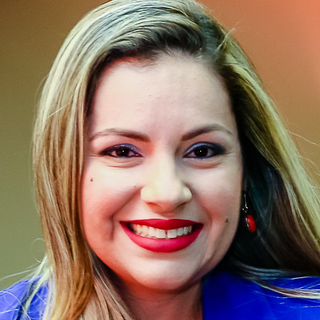eye: (90, 132, 149, 169), (175, 134, 232, 169)
